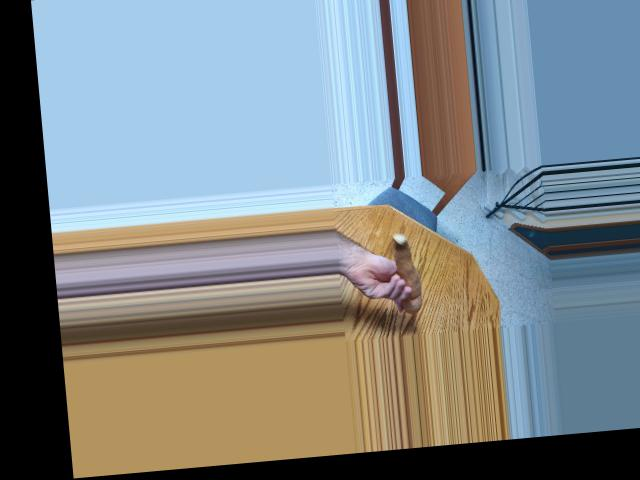sweet_potato: (384, 234, 426, 316)
